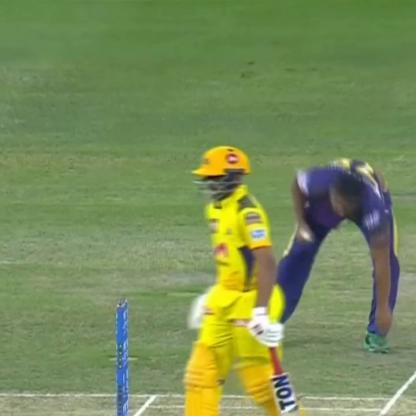ball: (295, 229, 317, 247)
